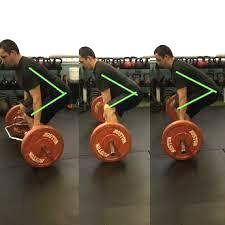Barbell: (180, 148, 188, 158), (45, 150, 55, 158), (108, 150, 118, 158)
